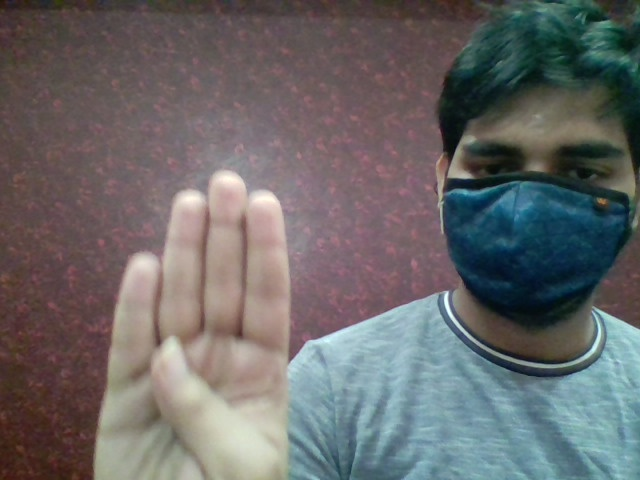b: (79, 168, 305, 480)
